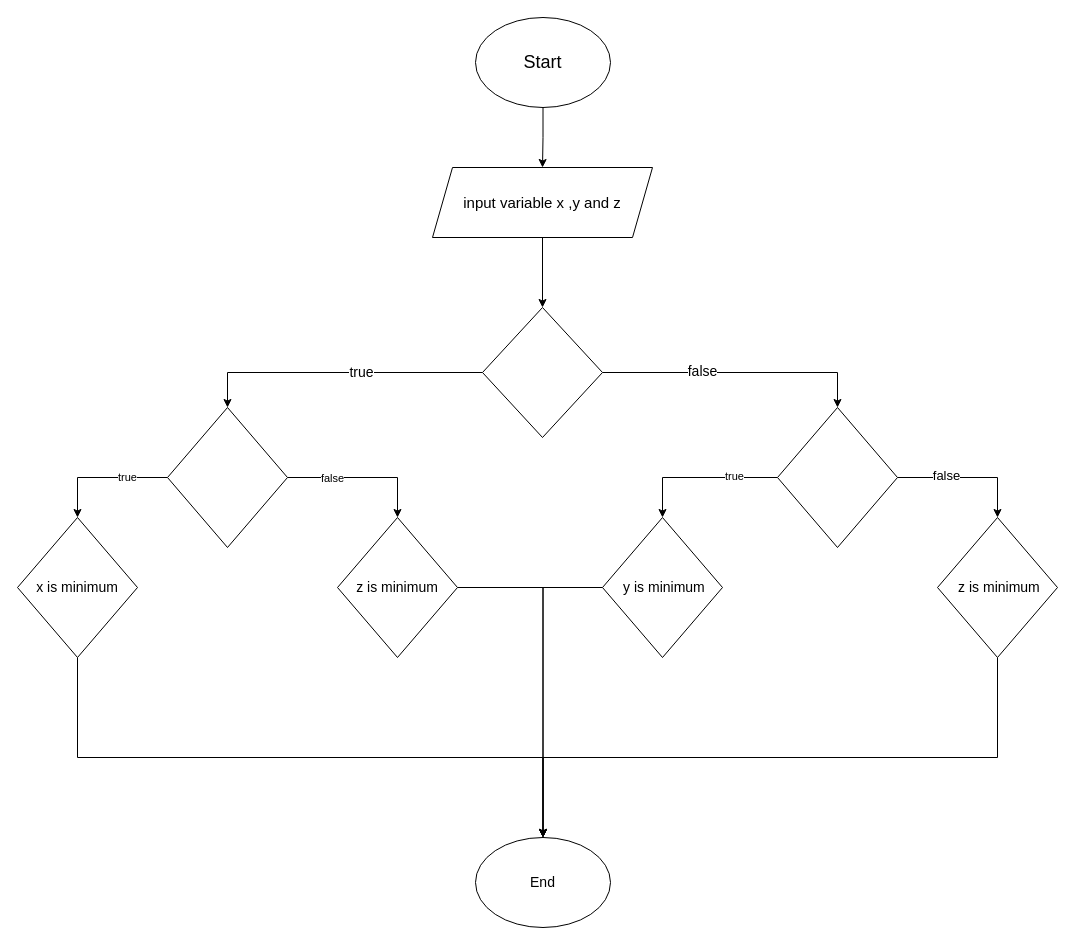
Some shapes in this 1075 by 945 pixel diagram are drawn without their labels. Each missing label, with the box of its shape:
(x<y): (482, 306, 602, 438)
(x<z): (166, 406, 288, 548)
(y<z): (776, 406, 898, 548)
